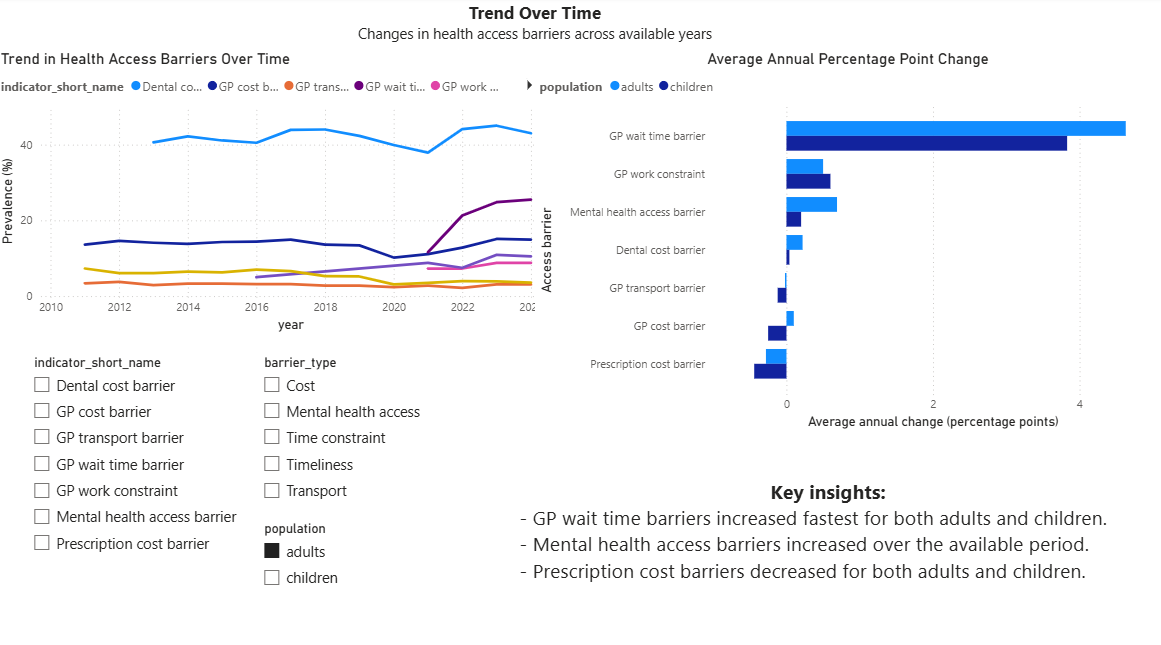

This screenshot's page, from the dashboard's own definition file:
{"tool":"powerbi","page":{"name":"Trend Over Time","canvas":[1280,720],"ordinal":3},"visuals":[{"type":"textbox","box":[271.7,0,642.2,57.6],"z":0},{"type":"lineChart","title":"Trend in Health Access Barriers Over Time","fields":{"Category":["fact_trend.year"],"Y":["Avg(fact_trend.percent_value)"],"Series":["fact_trend.indicator_short_name"]},"box":[1.4,59,605.1,314.2],"z":1000},{"type":"slicer","fields":{"Values":["fact_trend.population"]},"box":[282.7,570.8,133.1,87.8],"z":2000},{"type":"slicer","fields":{"Values":["fact_trend.barrier_type"]},"box":[282.7,388.3,196.2,182.5],"z":3000},{"type":"slicer","fields":{"Values":["fact_trend.indicator_short_name"]},"box":[30.2,388.3,252.5,241.5],"z":4000},{"type":"clusteredBarChart","title":"Average Annual Percentage Point Change","fields":{"Category":["vw_trend_summary.indicator_short_name"],"Y":["Avg(vw_trend_summary.average_annual_pp_change)"],"Series":["vw_trend_summary.population"]},"box":[592.8,59,687.5,421.3],"z":4001},{"type":"textbox","box":[570.8,524.2,687.5,150.9],"z":4002}]}

Visuals, with their boxes in screenshot pixels (x1, y1, x2, y2), scaled from the page's 1280x720 canvas onto the 1161x645 screenshot:
textbox: x1=246, y1=0, x2=829, y2=52
"Trend in Health Access Barriers Over Time" lineChart: x1=1, y1=53, x2=550, y2=334
slicer - fact_trend.population: x1=256, y1=511, x2=377, y2=590
slicer - fact_trend.barrier_type: x1=256, y1=348, x2=434, y2=511
slicer - fact_trend.indicator_short_name: x1=27, y1=348, x2=256, y2=564
"Average Annual Percentage Point Change" clusteredBarChart: x1=538, y1=53, x2=1160, y2=430
textbox: x1=518, y1=470, x2=1141, y2=605
